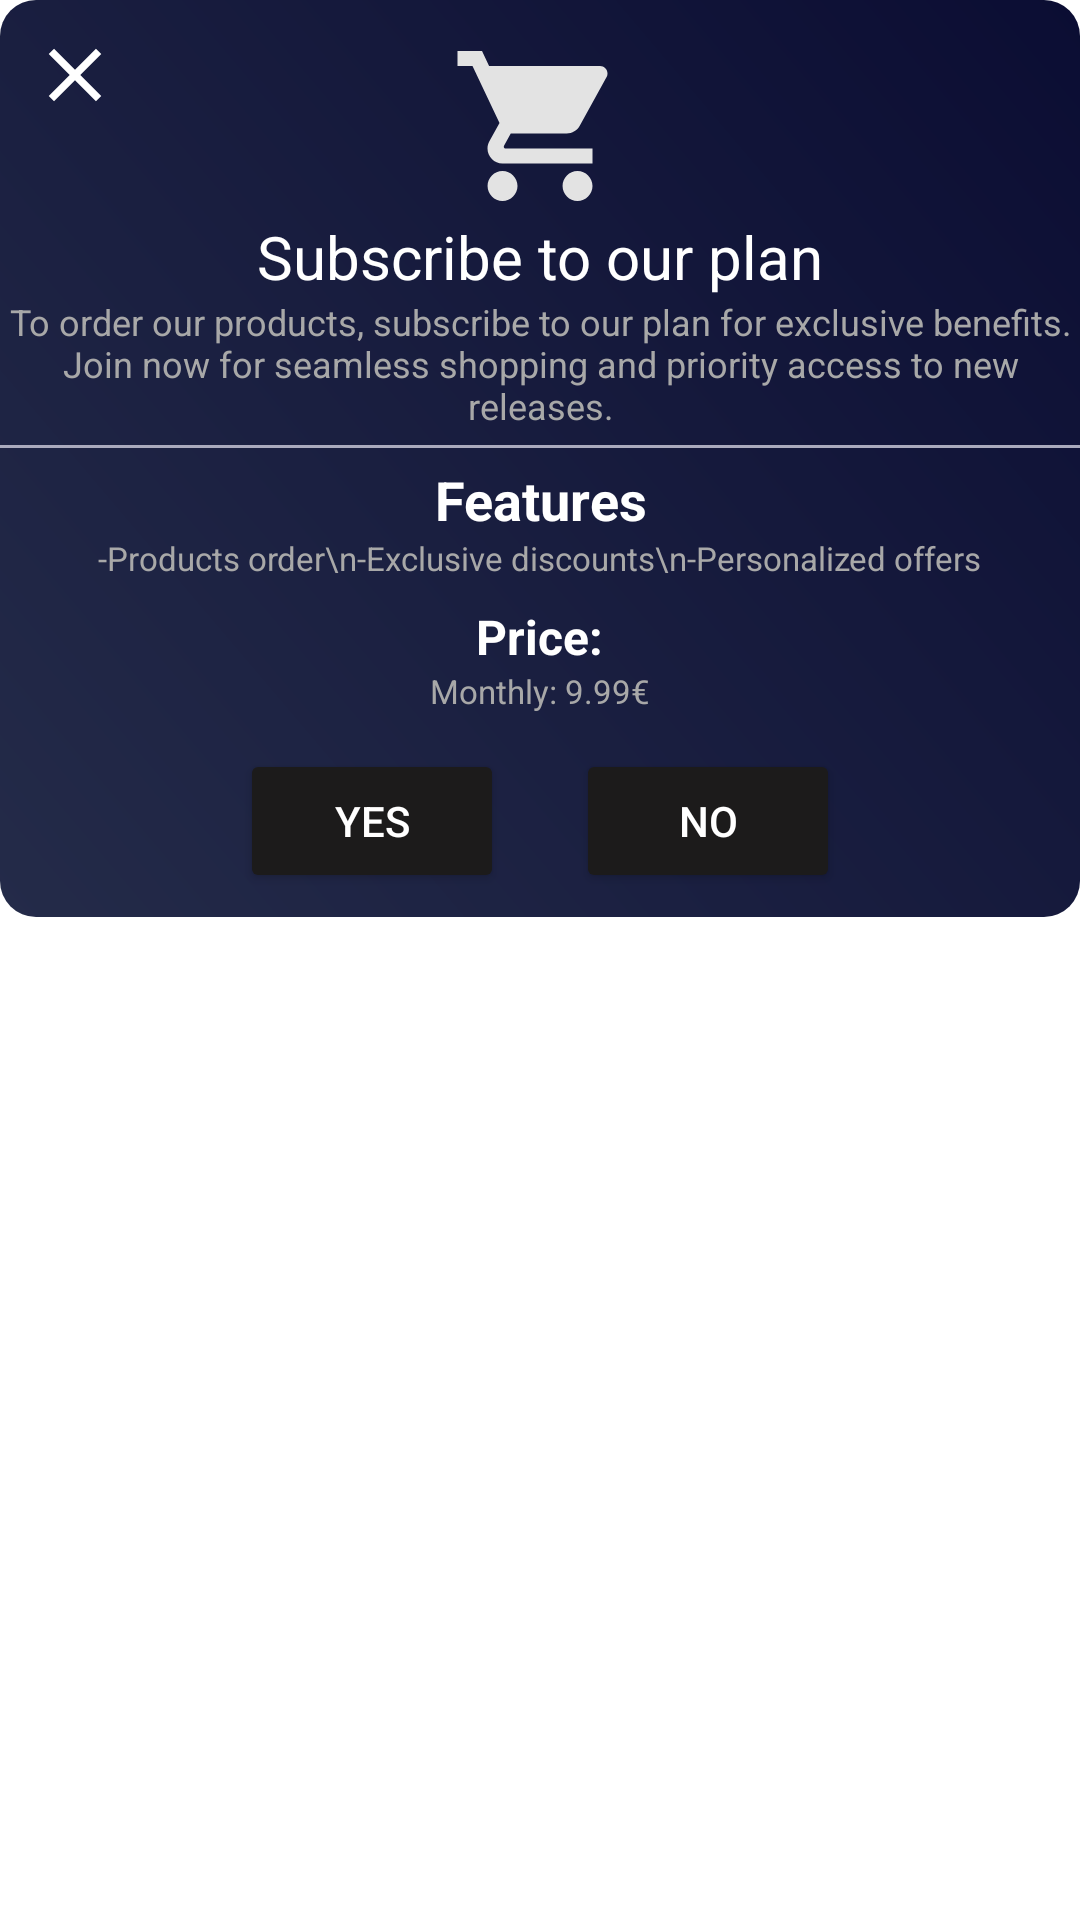

Named icons in this screenshot (1080px x 1920px) and their bounding boxes, (x1, y1, x2, y2):
clear: (49, 49, 101, 101)
shop cart: (457, 51, 608, 201)
